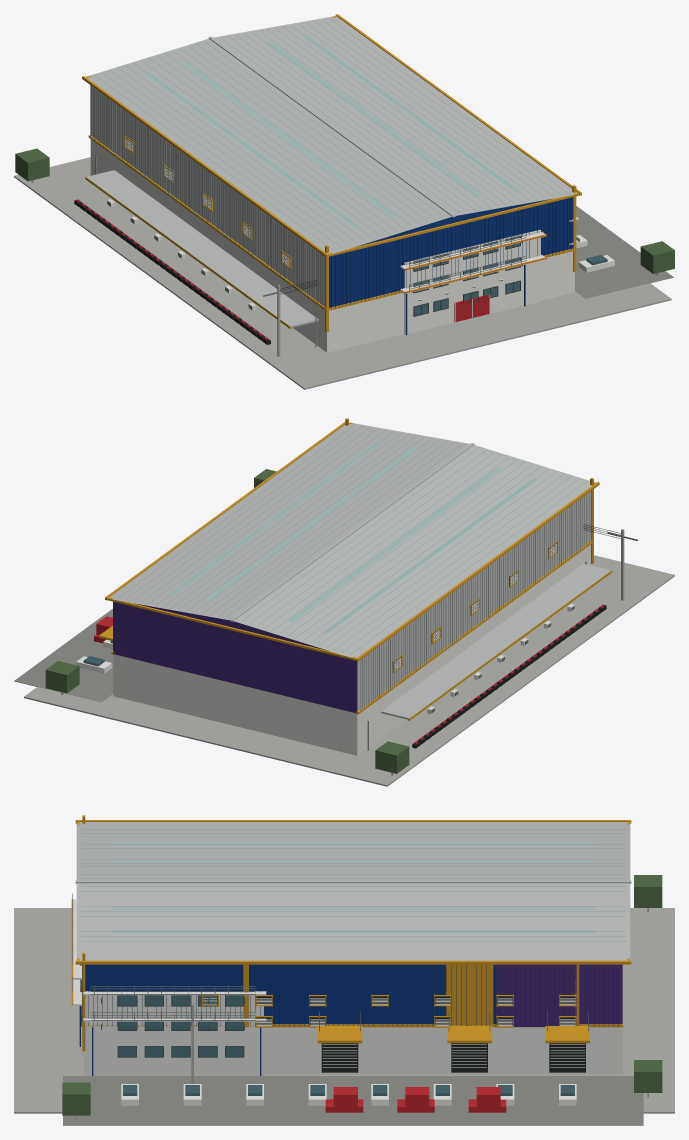
File: suksawat.glb
3 renders of one model, top to bottom at view 1: azimuth 30°, elevation 25°; view 2: azimuth 150°, elevation 25°; view 3: azimuth 270°, elevation 25°, orthographic. The views are drawn at different scales.
Parts seen in each view (by area): view 1: Building / silver, Site / concrete, Building / white, Building / silver_rib, Building / blue, Building / yellow, Building / skylight, Site / asphalt, Building / blue_rib, Site / green, Site / black, Building / glass (+4 smaller); view 2: Building / silver, Site / concrete, Building / white, Building / purple, Building / silver_rib, Building / yellow, Building / skylight, Site / asphalt, Site / green, Site / black, Site / red; view 3: Building / silver, Building / white, Site / asphalt, Site / concrete, Building / blue, Building / yellow, Building / silver_rib, Building / purple, Building / skylight, Building / shadow, Building / blue_rib, Building / glass (+8 smaller).
Boxes of the visible parts, box(x1,y1,x2,y2) form: Building / silver: box(86, 16, 578, 327); Site / concrete: box(14, 157, 671, 389); Building / white: box(90, 139, 578, 352); Building / silver_rib: box(90, 18, 568, 347); Building / blue: box(329, 197, 572, 335); Building / yellow: box(82, 14, 581, 332); Building / skylight: box(146, 35, 518, 229); Site / asphalt: box(575, 206, 673, 298); Building / blue_rib: box(331, 198, 571, 308); Site / green: box(15, 148, 674, 273); Site / black: box(74, 200, 318, 344); Building / glass: box(413, 235, 519, 315); Building / silver: box(108, 423, 611, 719); Site / concrete: box(24, 529, 674, 786); Building / white: box(113, 544, 591, 755); Building / purple: box(113, 601, 357, 713); Building / silver_rib: box(118, 425, 591, 750); Building / yellow: box(99, 418, 612, 720); Building / skylight: box(167, 441, 536, 633); Site / asphalt: box(14, 609, 113, 702); Site / green: box(45, 469, 409, 773); Site / black: box(412, 524, 620, 748); Site / red: box(94, 605, 604, 744); Building / silver: box(75, 822, 631, 1067); Building / white: box(72, 899, 622, 1075); Site / asphalt: box(63, 1076, 643, 1125); Site / concrete: box(14, 908, 674, 1119); Building / blue: box(79, 964, 496, 1075); Building / yellow: box(75, 815, 631, 1051); Building / silver_rib: box(81, 829, 625, 941); Building / purple: box(496, 964, 622, 1026); Building / skylight: box(112, 843, 594, 932); Building / shadow: box(217, 996, 585, 1072); Building / blue_rib: box(82, 965, 495, 1025); Building / glass: box(81, 964, 243, 1056).
Size of the model in its own units: 58.2 by 15.63 by 74.
